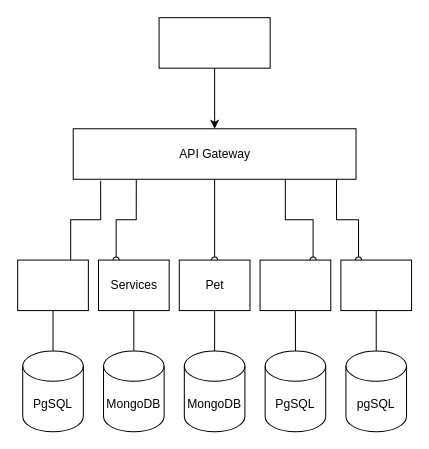
The diagram is 429 pixels wide and 449 high, and some of its shapes have lost their labels. The centre of each missing label's shape, as x and y in pixels:
Auth: point 52,285
Cliente: point 214,42
Payment: point 376,285
Products: point 295,285
